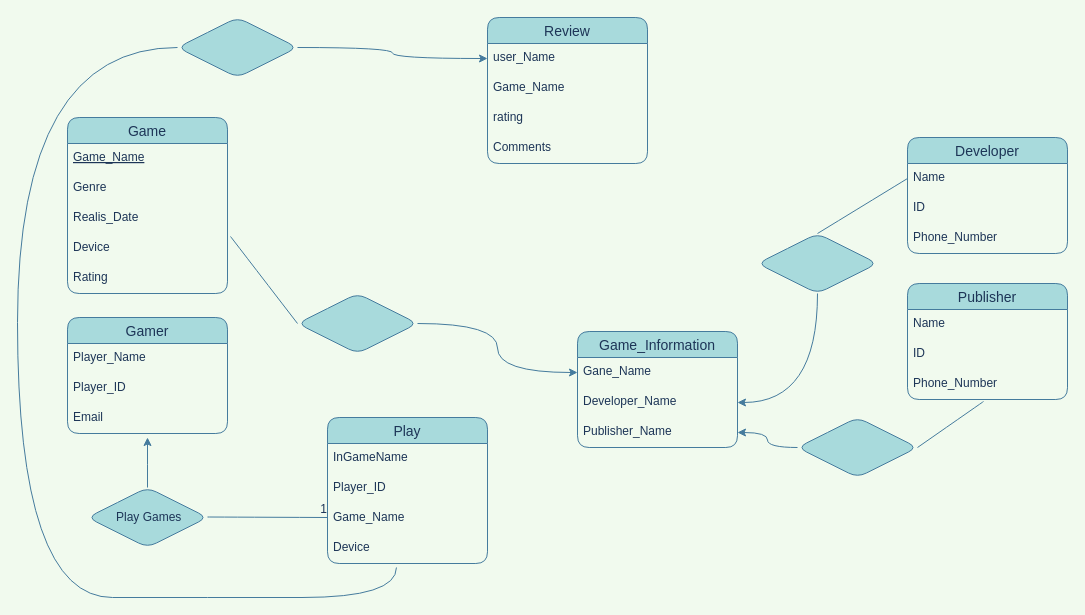
The diagram is 1085 pixels wide and 615 high, and some of its shapes have lost their labels. The centre of each missing label's shape, as x and y in pixels:
"Develop Game" belongs at pixel 817 263.
"Game Information" belongs at pixel 357 323.
"Publish Game" belongs at pixel 857 447.
"Review Game" belongs at pixel 237 47.
